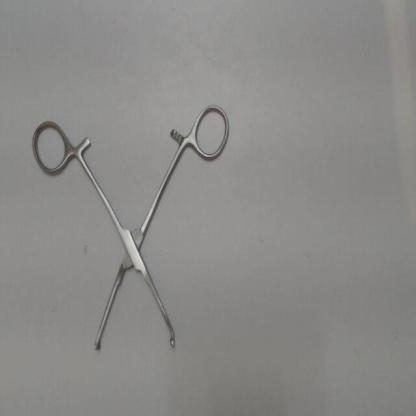Allis Tissue Forceps: (27, 96, 236, 361)
